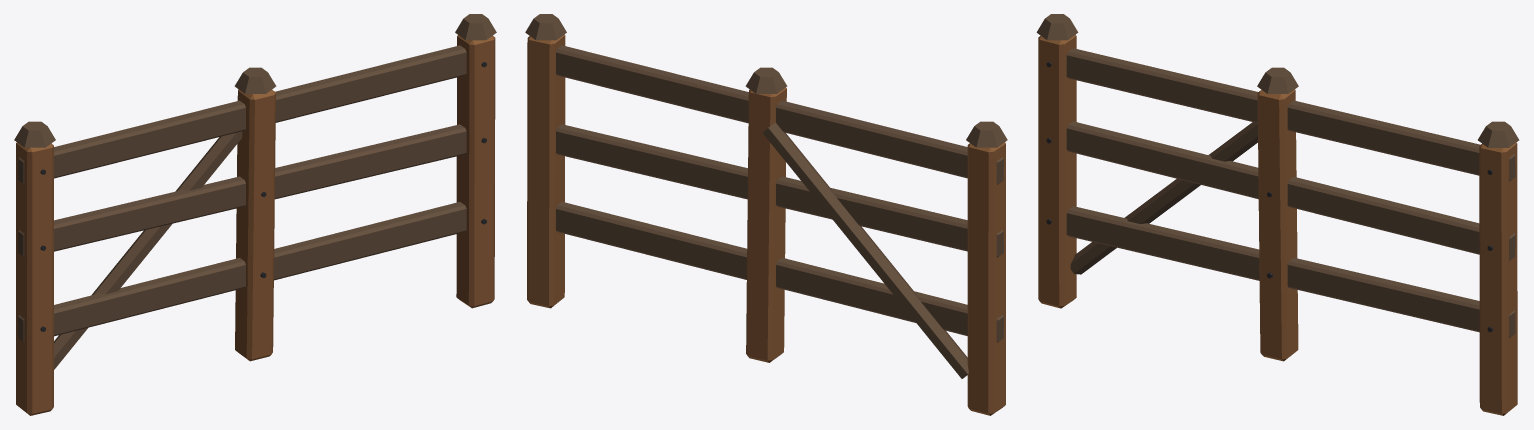
File: prop_fence_section_a.glb
The picture shows the model from 3 angles, left to right: view 1: azimuth 30°, elevation 25°; view 2: azimuth 150°, elevation 25°; view 3: azimuth 330°, elevation 25°; orthographic projection.
Visible parts, largest first — view 1: fence_brace, fence_post_0; view 2: fence_brace, fence_post_0; view 3: fence_brace, fence_post_0.
Part boxes in pixels (bbox=[...]): fence_brace: bbox=[14, 14, 496, 369]; fence_post_0: bbox=[16, 35, 495, 415]; fence_brace: bbox=[525, 14, 1007, 378]; fence_post_0: bbox=[527, 34, 1005, 415]; fence_brace: bbox=[1036, 14, 1519, 337]; fence_post_0: bbox=[1038, 34, 1517, 415].
Size of the model in its own units: 1.95 by 1.12 by 0.15.
